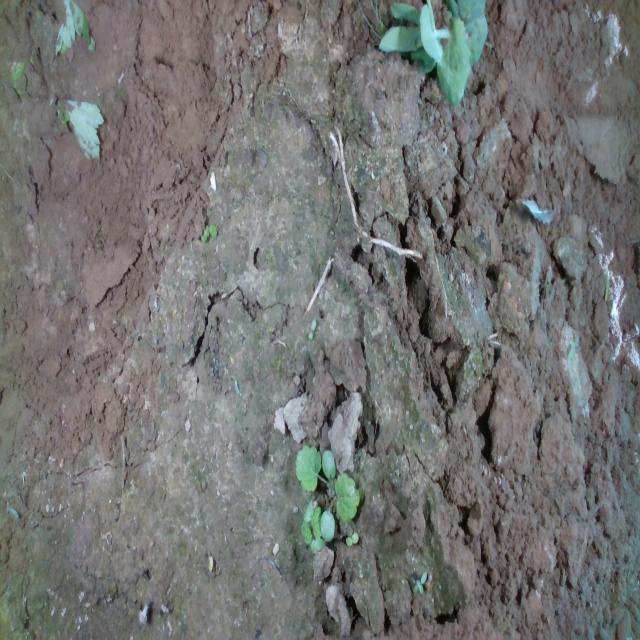weed: (199, 218, 219, 238), (308, 314, 324, 337)
